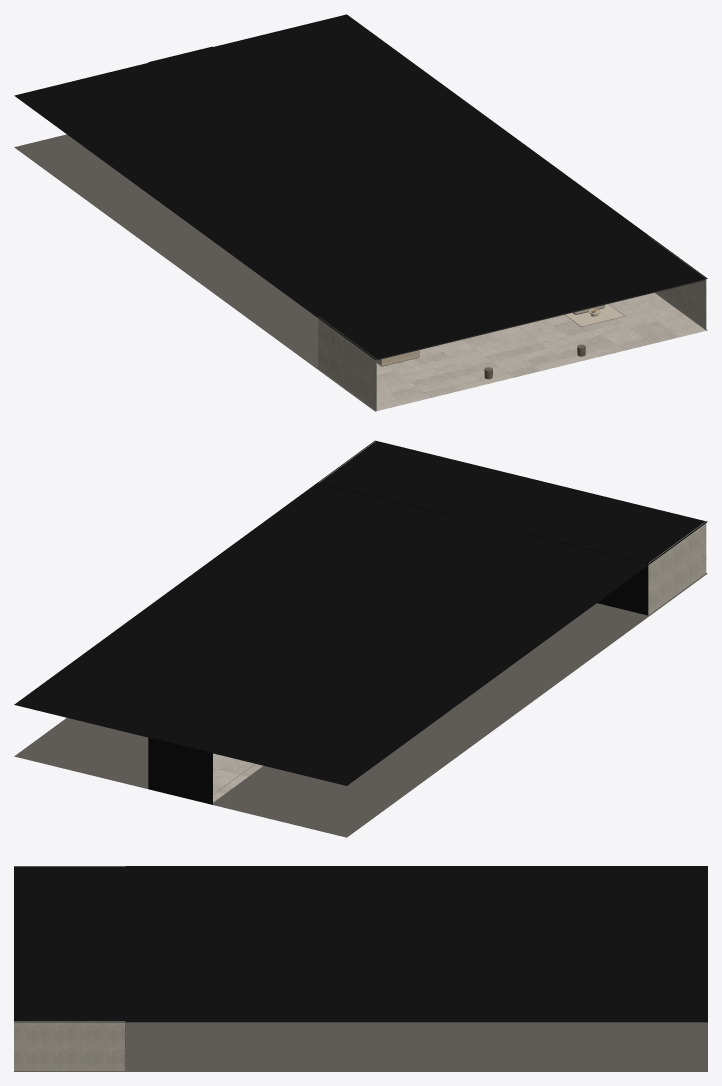
Rendered from room_hub.glb.
The picture shows the model from 3 angles, top to bottom: view 1: azimuth 30°, elevation 25°; view 2: azimuth 150°, elevation 25°; view 3: azimuth 270°, elevation 25°; orthographic projection. The views are drawn at different scales.
Parts seen in each view (by area): view 1: MTG_Reveals, MTG_Floor, MTG_Walls; view 2: MTG_Reveals, MTG_Walls, MTG_Floor; view 3: MTG_Reveals, MTG_Walls.
Boxes of the visible parts, <box> form: MTG_Reveals: <box>14,14,707,411</box>; MTG_Floor: <box>376,292,705,410</box>; MTG_Walls: <box>318,236,706,410</box>; MTG_Reveals: <box>14,440,707,837</box>; MTG_Walls: <box>319,440,706,615</box>; MTG_Floor: <box>213,753,262,802</box>; MTG_Reveals: <box>14,866,707,1071</box>; MTG_Walls: <box>14,866,125,1070</box>.
Bounding box in the file's own units: 33 × 4.95 × 62.
31 materials, 11 textured.
